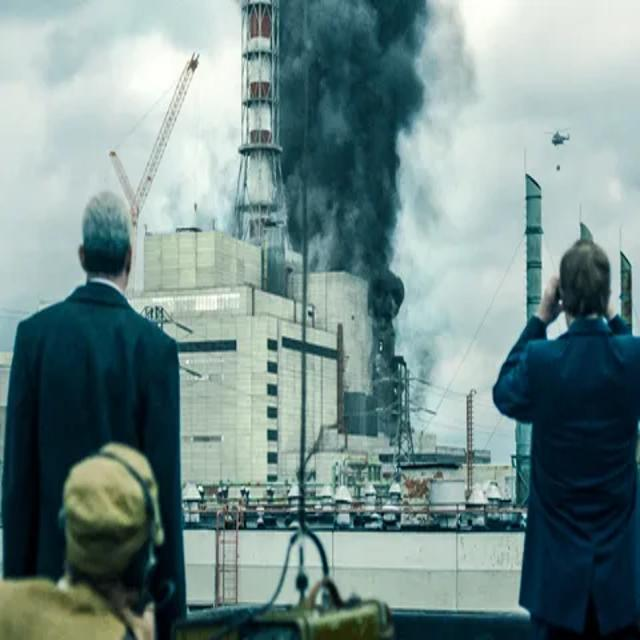Smoke: (276, 0, 404, 278)
